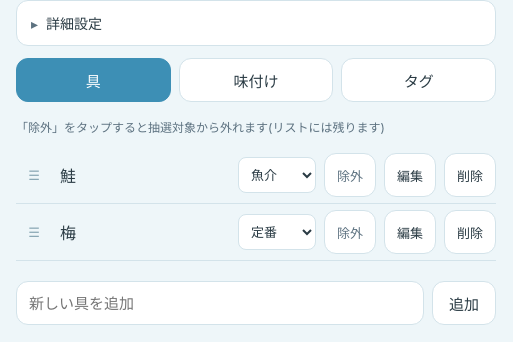
Test: ManageScreen › 具/味付けセグメント切替でリストが変わる
Click the tab "味付け": x=256, y=80 [179,58,333,102]
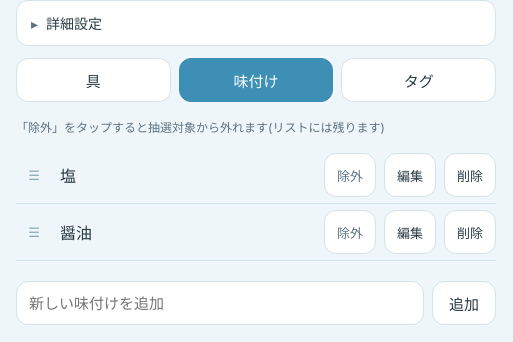
Now the text "塩" is shown, box [60,166,76,186]
Now the text "鮭" is gone
